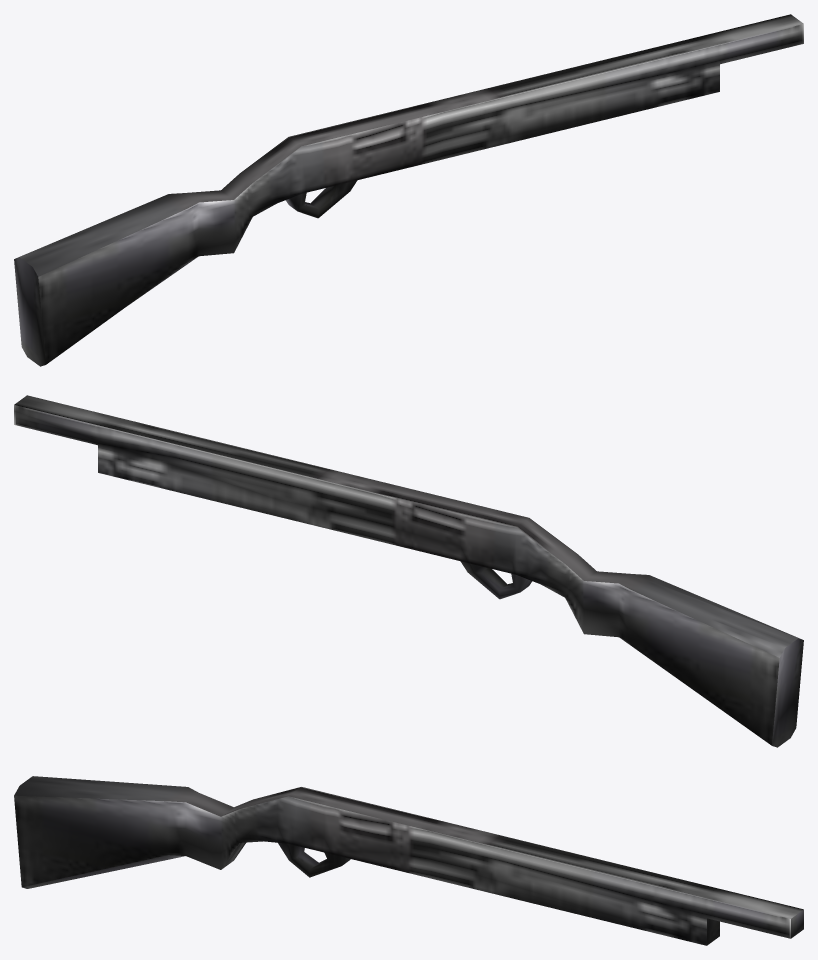
The model's file is shotgun.FBX.
3 views of the same model, one above another, from view 1: azimuth 30°, elevation 25°; view 2: azimuth 150°, elevation 25°; view 3: azimuth 330°, elevation 25° (orthographic).
Visible parts, largest first — view 1: shotgun; view 2: shotgun; view 3: shotgun.
Part boxes in pixels (left/top/right/bottom): shotgun: left=14, top=14, right=803, bottom=366; shotgun: left=14, top=395, right=803, bottom=747; shotgun: left=14, top=776, right=803, bottom=945.
Size of the model in its own units: 75.6 by 14.66 by 4.13.
